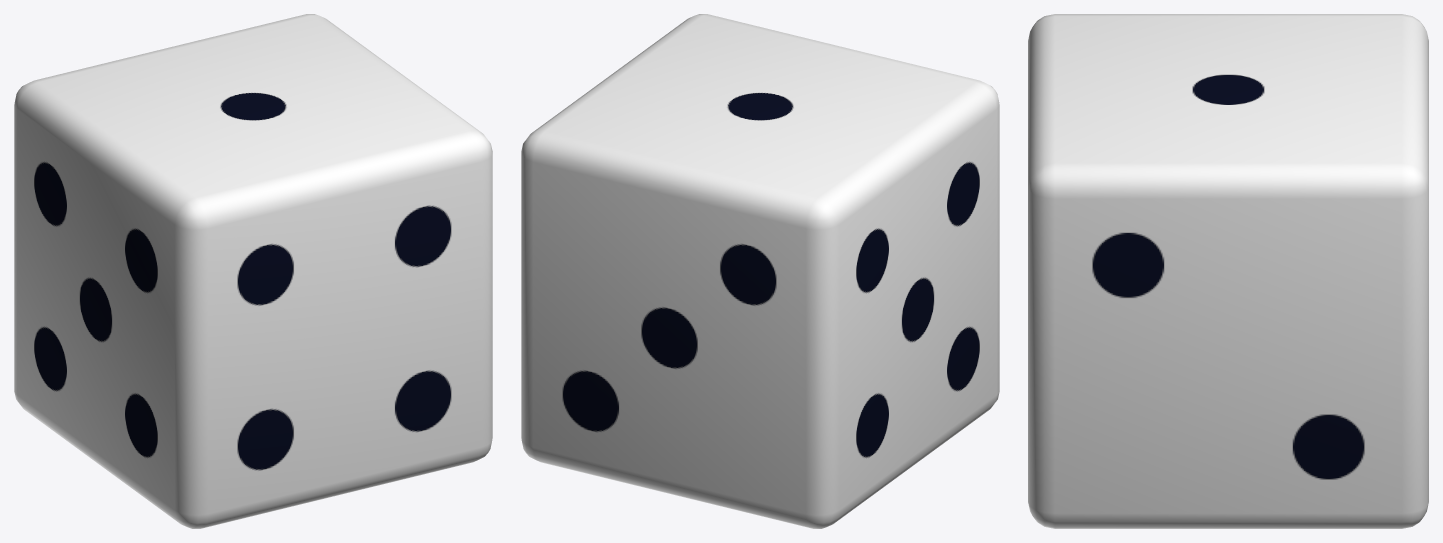
File: Dice.fbx
3 views of the same model, side by side, from view 1: azimuth 30°, elevation 25°; view 2: azimuth 150°, elevation 25°; view 3: azimuth 270°, elevation 25° (orthographic). The views are drawn at different scales.
Parts seen in each view (by area): view 1: Cube; view 2: Cube; view 3: Cube.
Boxes of the visible parts, x1=… form: Cube: x1=14, y1=14, x2=492, y2=528; Cube: x1=521, y1=14, x2=999, y2=528; Cube: x1=1028, y1=14, x2=1428, y2=528.
Size of the model in its own units: 2 by 2 by 2.
